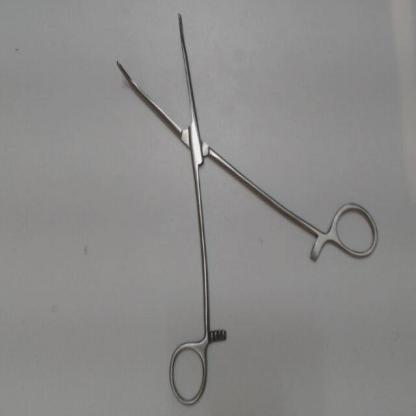Lahey Forceps: (110, 8, 382, 410)
